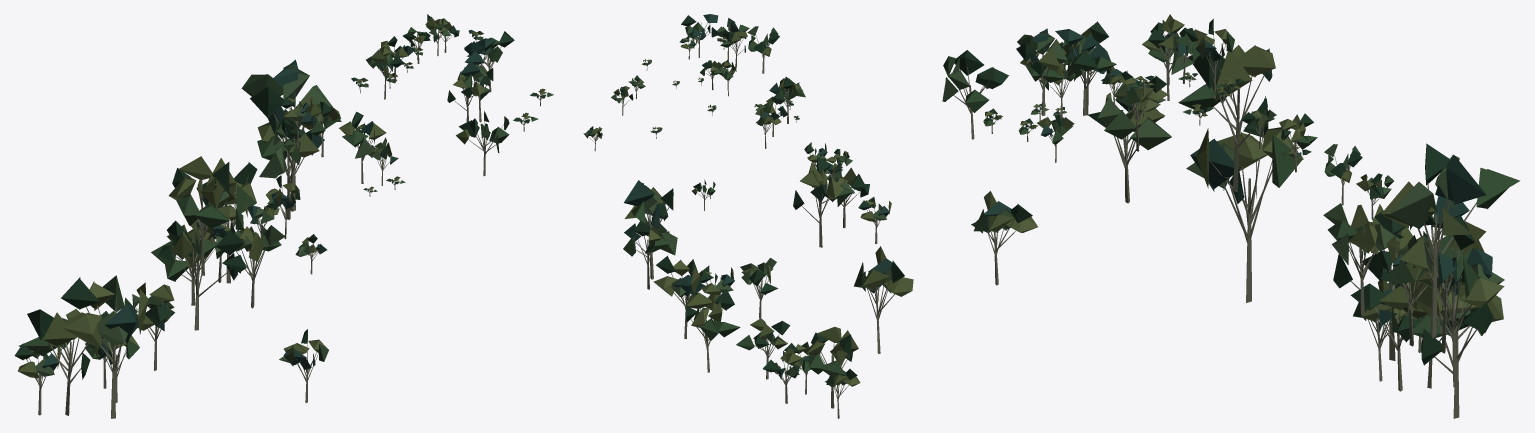
The model's file is forest_17_24.dae.
3 views of the same model, side by side, from view 1: azimuth 30°, elevation 25°; view 2: azimuth 150°, elevation 25°; view 3: azimuth 270°, elevation 25° (orthographic). The views are drawn at different scales.
Parts seen in each view (by area): view 1: Node; view 2: Node; view 3: Node.
Boxes of the visible parts, x1,y1,x2,y2 form: Node: (14, 14, 553, 418); Node: (583, 14, 913, 418); Node: (942, 14, 1520, 418).
Bounding box in the file's own units: 11.3 × 10.32 × 10.35.
